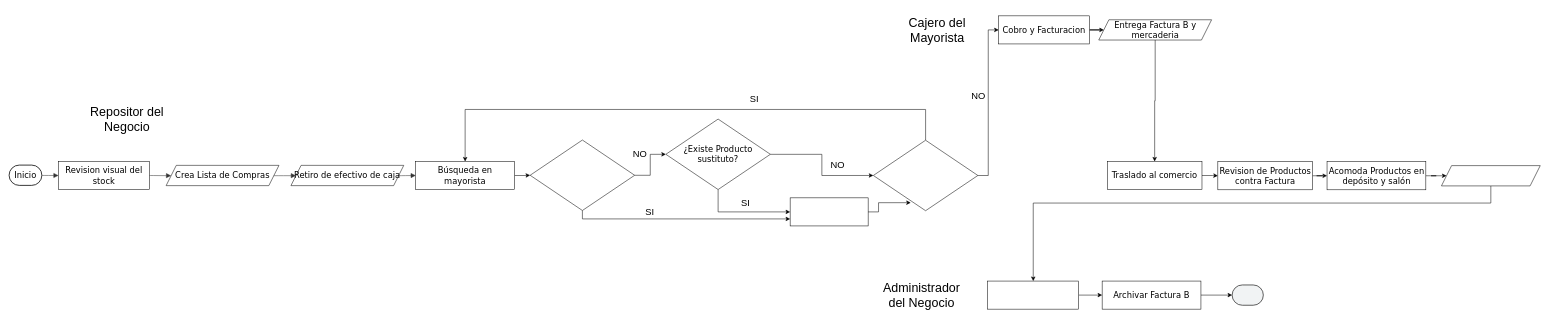
This 1550x324 diagram has some shape labels left out. The shapes that lost their labels are listed below. From the top down, each one's centre as x and y in pixels, then its label:
point 582,175: ¿Hay stock en góndola?
point 925,175: ¿Quedan Productos en la Lista de Compras?
point 1490,175: Informa aumentos a Admin
point 829,211: Agregar al carro
point 1033,295: Recalculo de precios de Productos
point 1247,294: Fin
